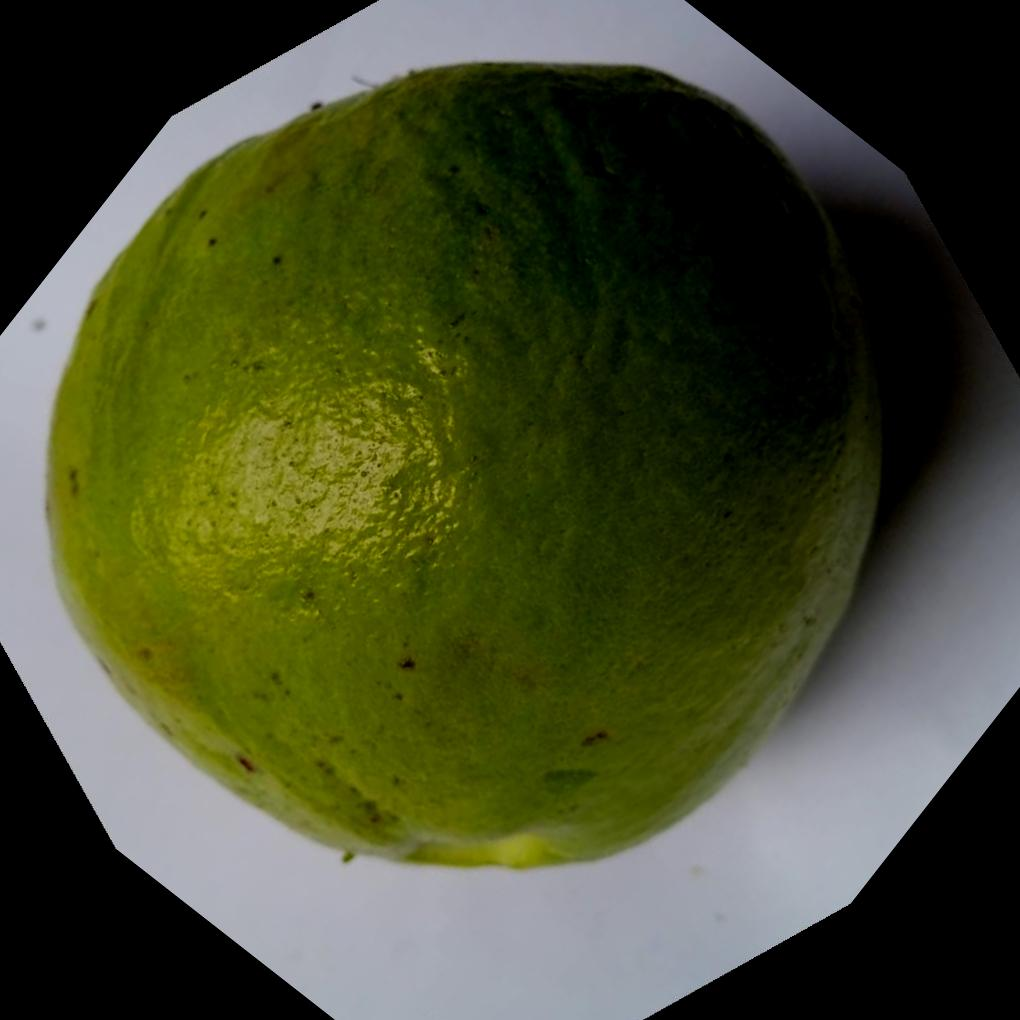FreshGuava: (45, 60, 890, 874)
